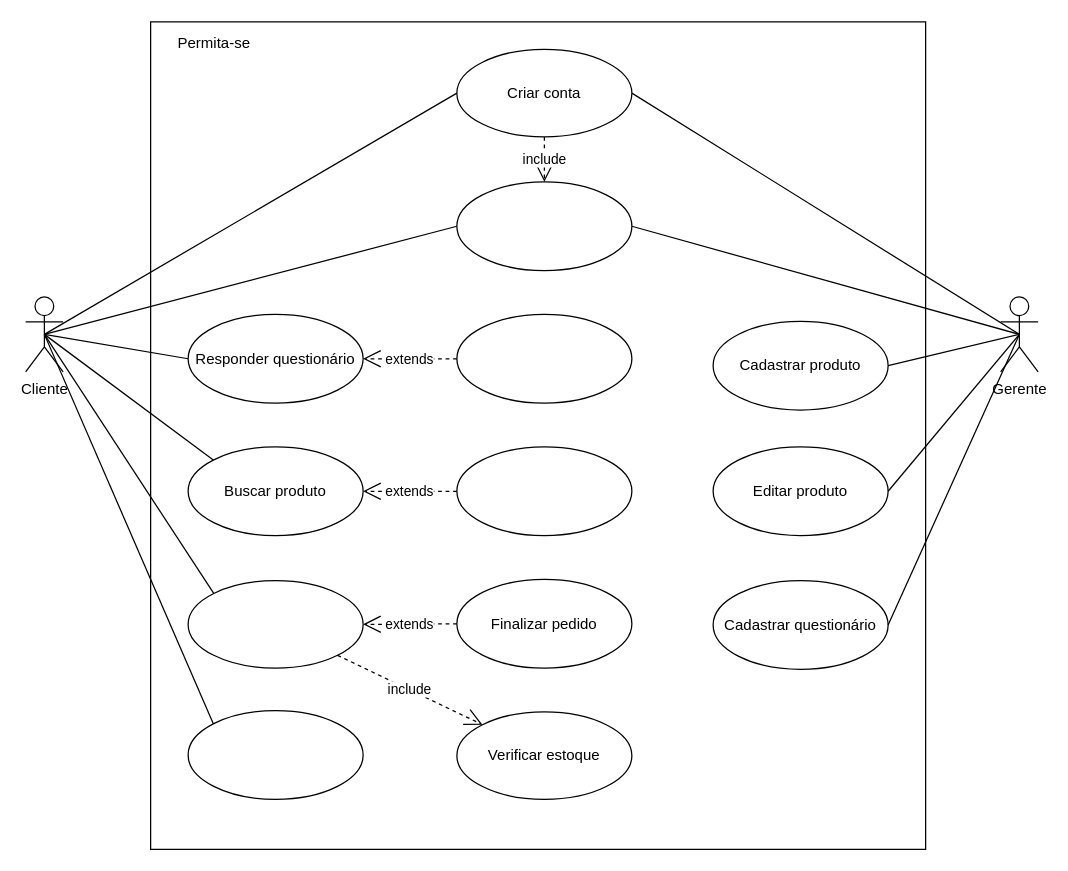
Some shapes in this 1068 by 871 pixel diagram are drawn without their labels. Each missing label, with the centre of its shape:
Adicionar produtos ao carrinho: (275,623)
Adicionar à lista de desejo: (544,491)
Fazer login: (544,226)
Salvar resultado do questionário: (544,358)
Solicitar ajuda: (275,754)
